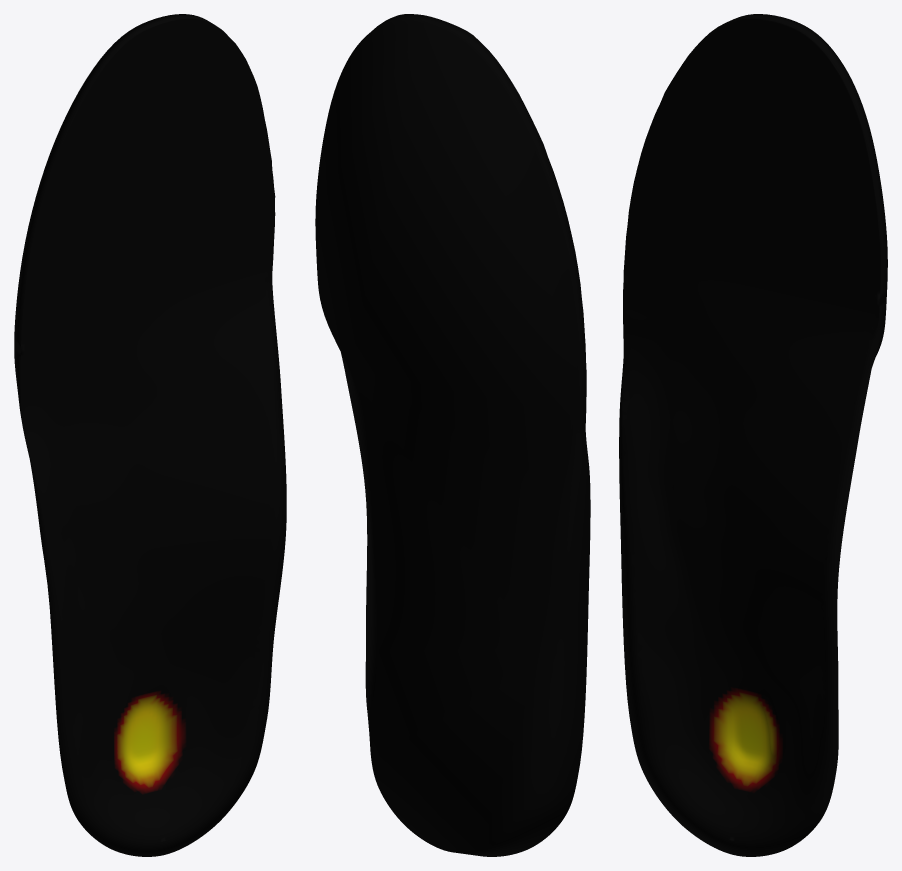
File: SG-HEEL-OFFLOAD_LEFT.glb
The picture shows the model from 3 angles, left to right: view 1: azimuth 30°, elevation 25°; view 2: azimuth 150°, elevation 25°; view 3: azimuth 330°, elevation 25°; orthographic projection. The views are drawn at different scales.
Visible parts, largest first — view 1: geometry_0; view 2: geometry_0; view 3: geometry_0.
Part boxes in pixels (x1=…): geometry_0: x1=14, y1=14, x2=286, y2=856; geometry_0: x1=315, y1=14, x2=590, y2=856; geometry_0: x1=619, y1=14, x2=887, y2=856.
Bounding box in the file's own units: 99.56 × 304 × 22.83.
